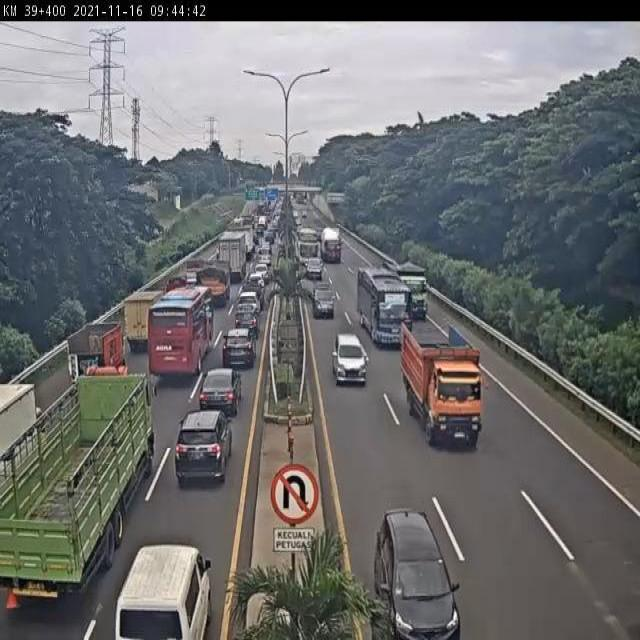big bus: (149, 288, 213, 377), (357, 264, 413, 348)
car: (377, 510, 462, 640), (175, 415, 231, 485), (334, 332, 369, 387), (200, 367, 241, 413), (221, 331, 253, 373), (312, 283, 338, 321), (232, 308, 259, 335), (236, 288, 261, 316)
small bus: (114, 540, 209, 640)
small truck: (124, 291, 162, 349)
truck-l-: (0, 376, 157, 596), (389, 261, 431, 324)
truck-m-: (402, 323, 483, 448), (66, 325, 125, 380), (195, 266, 231, 306)
